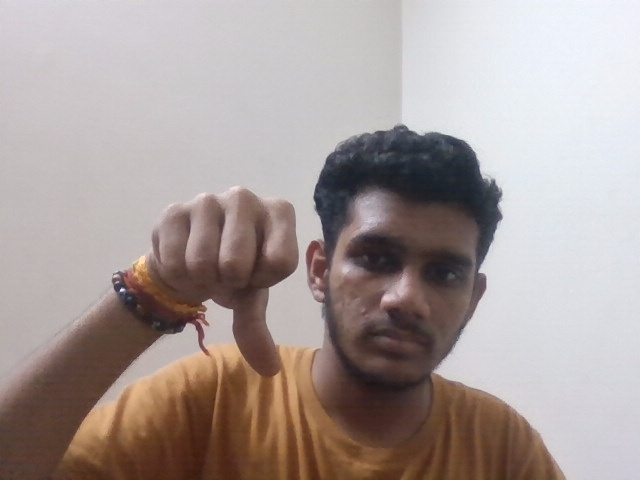yes: (140, 186, 314, 378)
